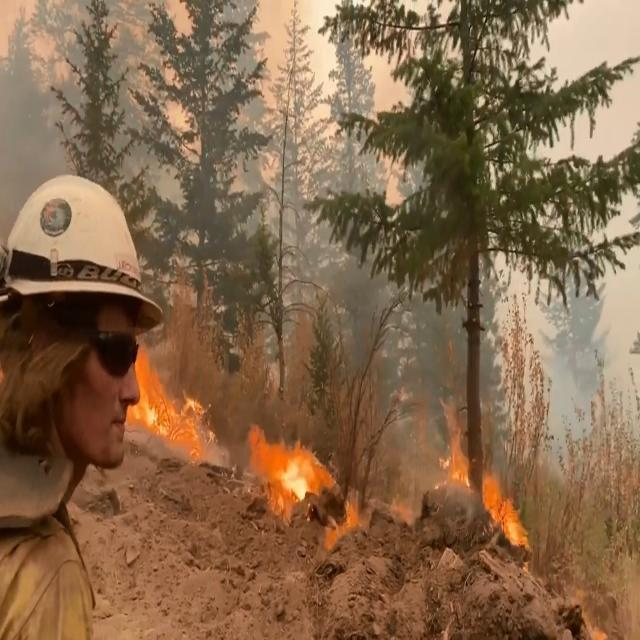Fire: (133, 326, 532, 554)
